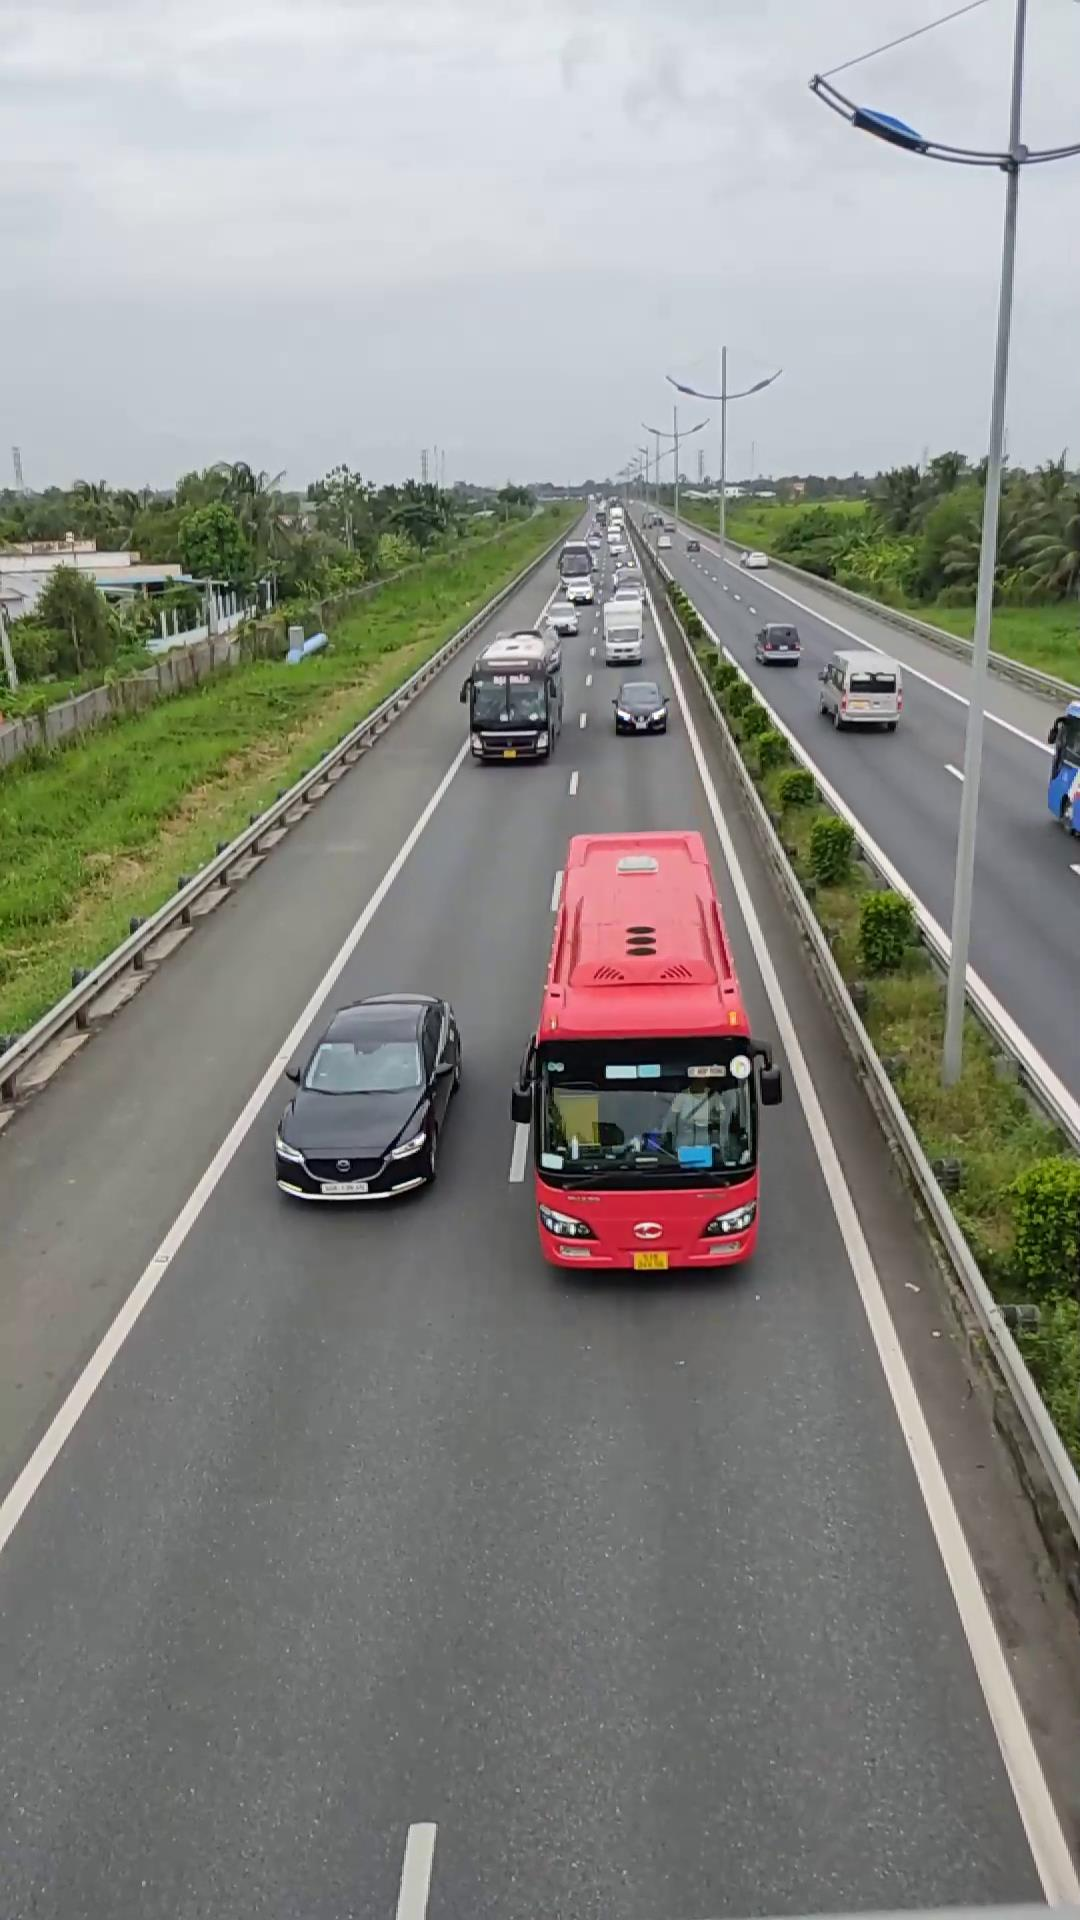bus: (511, 817, 770, 1276), (466, 631, 562, 764)
car: (271, 993, 462, 1201), (816, 645, 904, 729)
